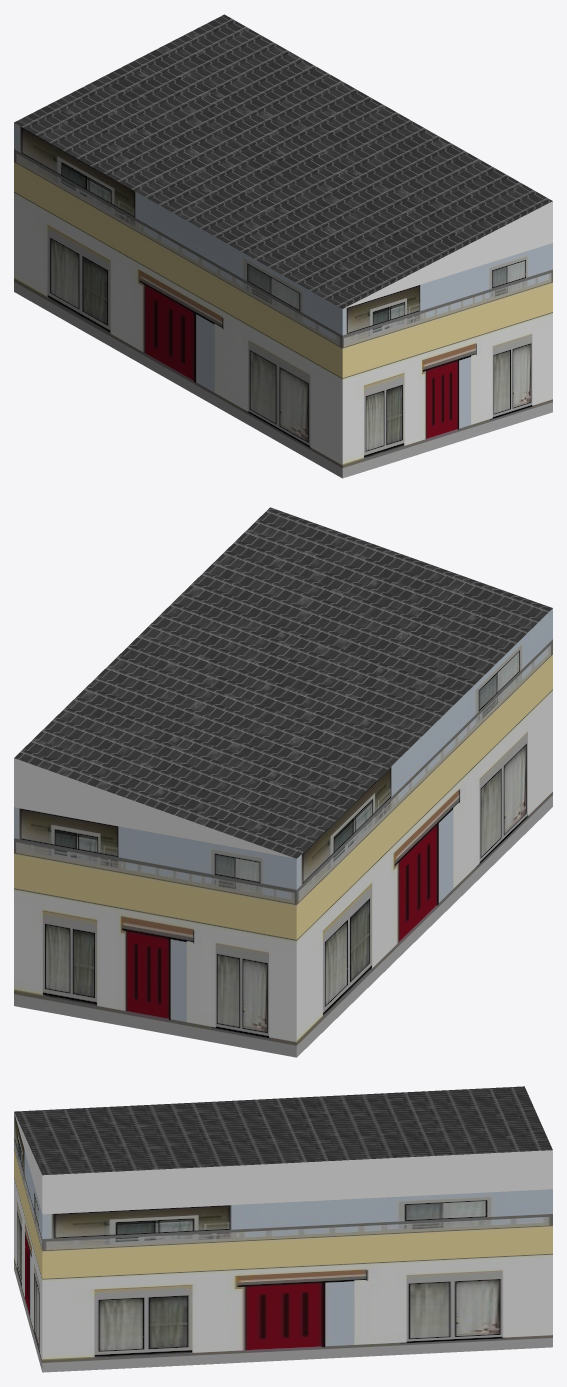
3 views of the same model, one above another, from view 1: azimuth 30°, elevation 25°; view 2: azimuth 150°, elevation 25°; view 3: azimuth 270°, elevation 25° (orthographic). The views are drawn at different scales.
Parts seen in each view (by area): view 1: CityEngineMaterial_15_m, CityEngineMaterial_16_m, CityEngineMaterial_3_m; view 2: CityEngineMaterial_15_m, CityEngineMaterial_16_m, CityEngineMaterial_3_m; view 3: CityEngineMaterial_15_m, CityEngineMaterial_16_m, CityEngineMaterial_3_m.
Part boxes in pixels (x1,y1,x2,y2): CityEngineMaterial_15_m: (14,123,552,478); CityEngineMaterial_16_m: (14,14,552,308); CityEngineMaterial_3_m: (344,201,552,308); CityEngineMaterial_15_m: (14,608,552,1057); CityEngineMaterial_16_m: (14,507,552,858); CityEngineMaterial_3_m: (14,758,295,858); CityEngineMaterial_15_m: (14,1112,552,1372); CityEngineMaterial_16_m: (14,1086,552,1175); CityEngineMaterial_3_m: (14,1113,552,1214).
Size of the model in its own units: 14.13 by 10.16 by 25.16.
